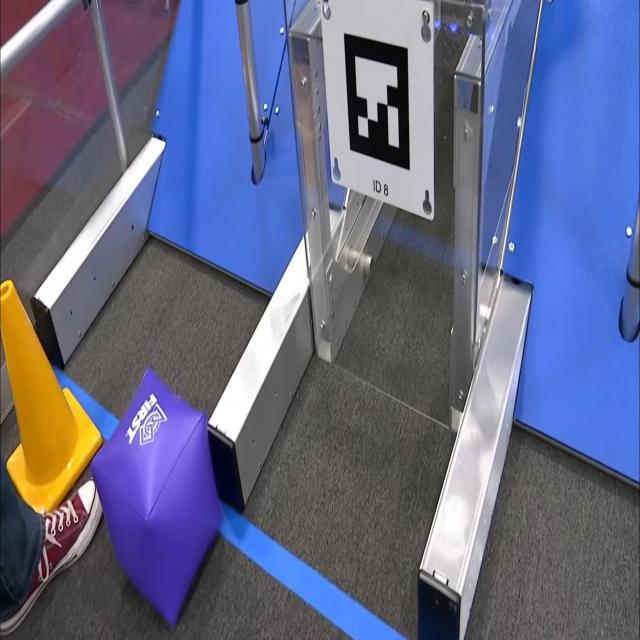frc_cone: (0, 278, 101, 515)
frc_cube: (92, 368, 222, 620)
